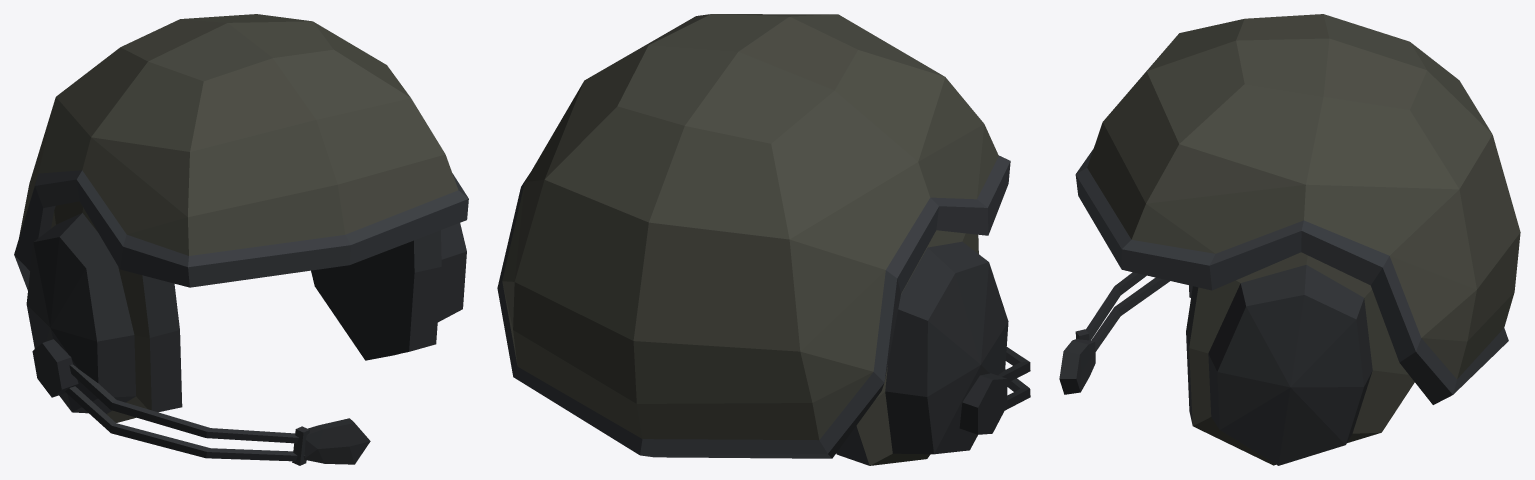
The model's file is SM_Chr_Attach_Helmet_09.fbx.
The picture shows the model from 3 angles, left to right: view 1: azimuth 30°, elevation 25°; view 2: azimuth 150°, elevation 25°; view 3: azimuth 270°, elevation 25°; orthographic projection. The views are drawn at different scales.
Parts seen in each view (by area): view 1: SM_Chr_Attach_Helmet_09; view 2: SM_Chr_Attach_Helmet_09; view 3: SM_Chr_Attach_Helmet_09.
Part boxes in pixels (bbox=[...]): SM_Chr_Attach_Helmet_09: bbox=[14, 14, 468, 465]; SM_Chr_Attach_Helmet_09: bbox=[497, 14, 1030, 465]; SM_Chr_Attach_Helmet_09: bbox=[1059, 14, 1520, 465].
Size of the model in its own units: 34.15 by 28.22 by 33.03.
